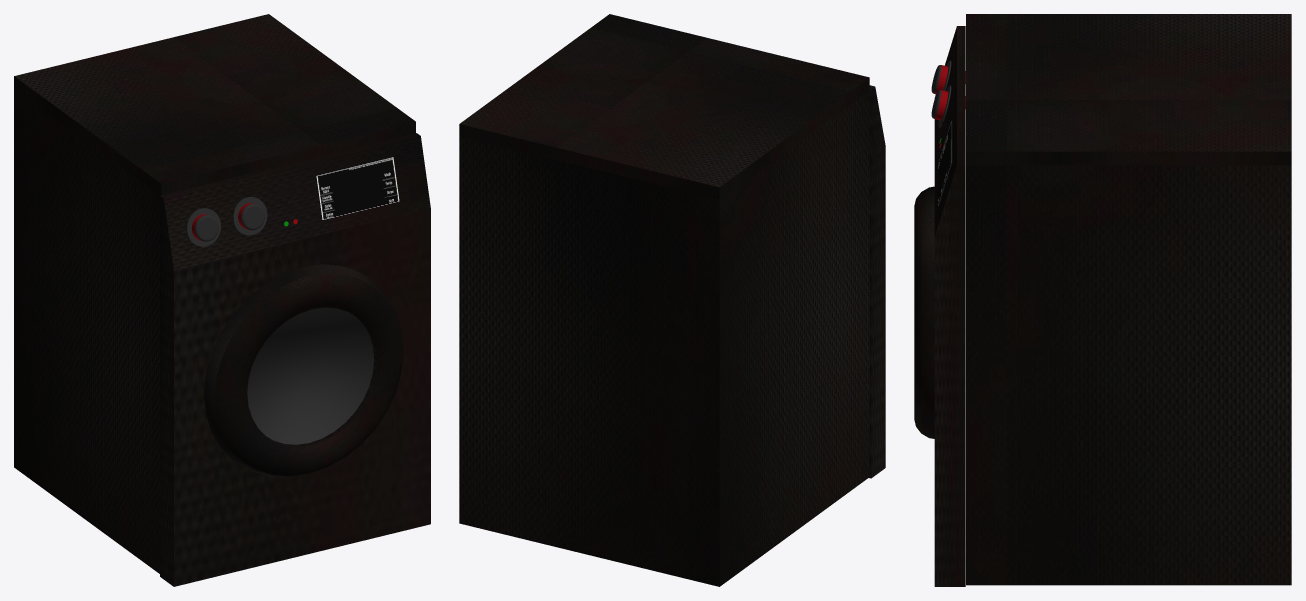
Rendered from washingmachine.glb.
3 views of the same model, side by side, from view 1: azimuth 30°, elevation 25°; view 2: azimuth 150°, elevation 25°; view 3: azimuth 270°, elevation 25° (orthographic). The views are drawn at different scales.
Visible parts, largest first — view 1: Cylinder.003; view 2: Cylinder.003; view 3: Cylinder.003.
Boxes of the visible parts, x1,y1,x2,y2 form: Cylinder.003: [14, 14, 430, 586]; Cylinder.003: [459, 14, 885, 586]; Cylinder.003: [914, 14, 1291, 586].
Size of the model in its own units: 4.8 by 7 by 5.51.
Materials: 8 (3 with a texture image).
